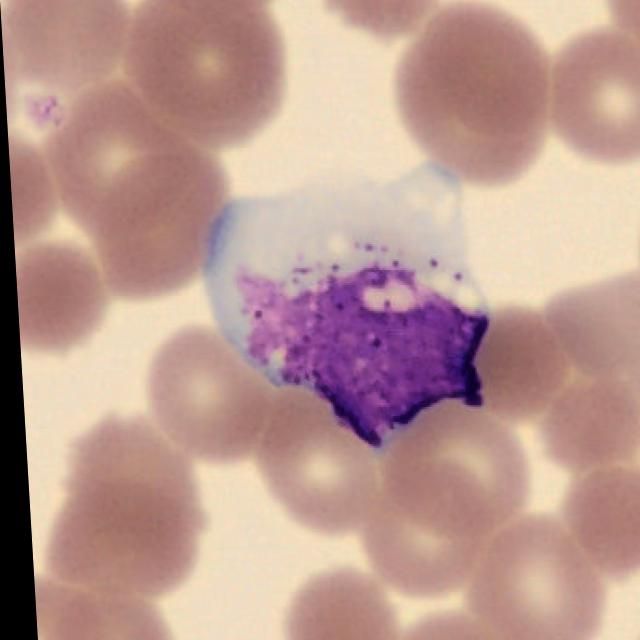Monocito: (197, 166, 489, 453)
